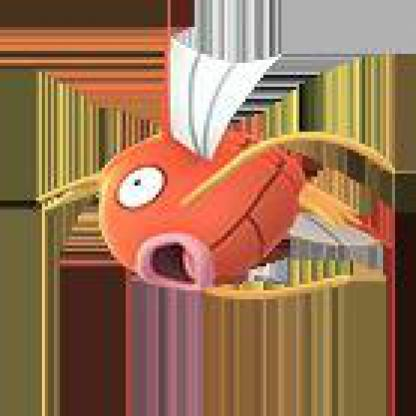Magikarp: (1, 1, 414, 414)
